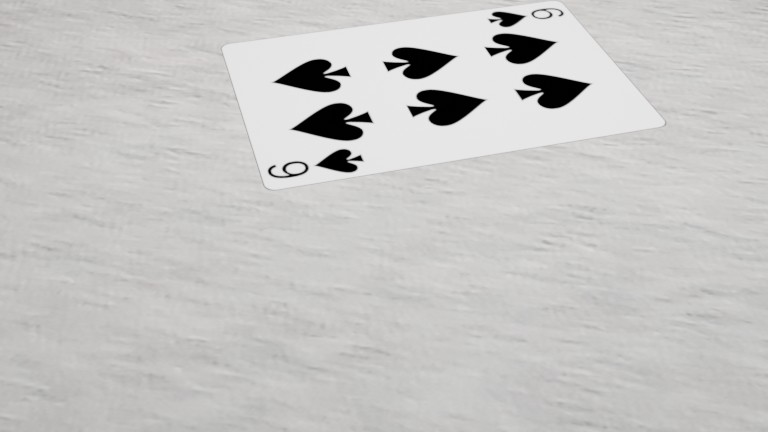6_of_spades: (105, 57, 149, 75), (192, 0, 229, 13)
